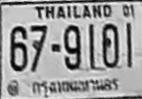0: (101, 22, 118, 68)
1: (126, 22, 132, 67), (89, 24, 94, 68)
6: (9, 25, 27, 70)
7: (30, 24, 47, 70)
9: (63, 24, 80, 69)
BKK: (29, 76, 121, 97)
